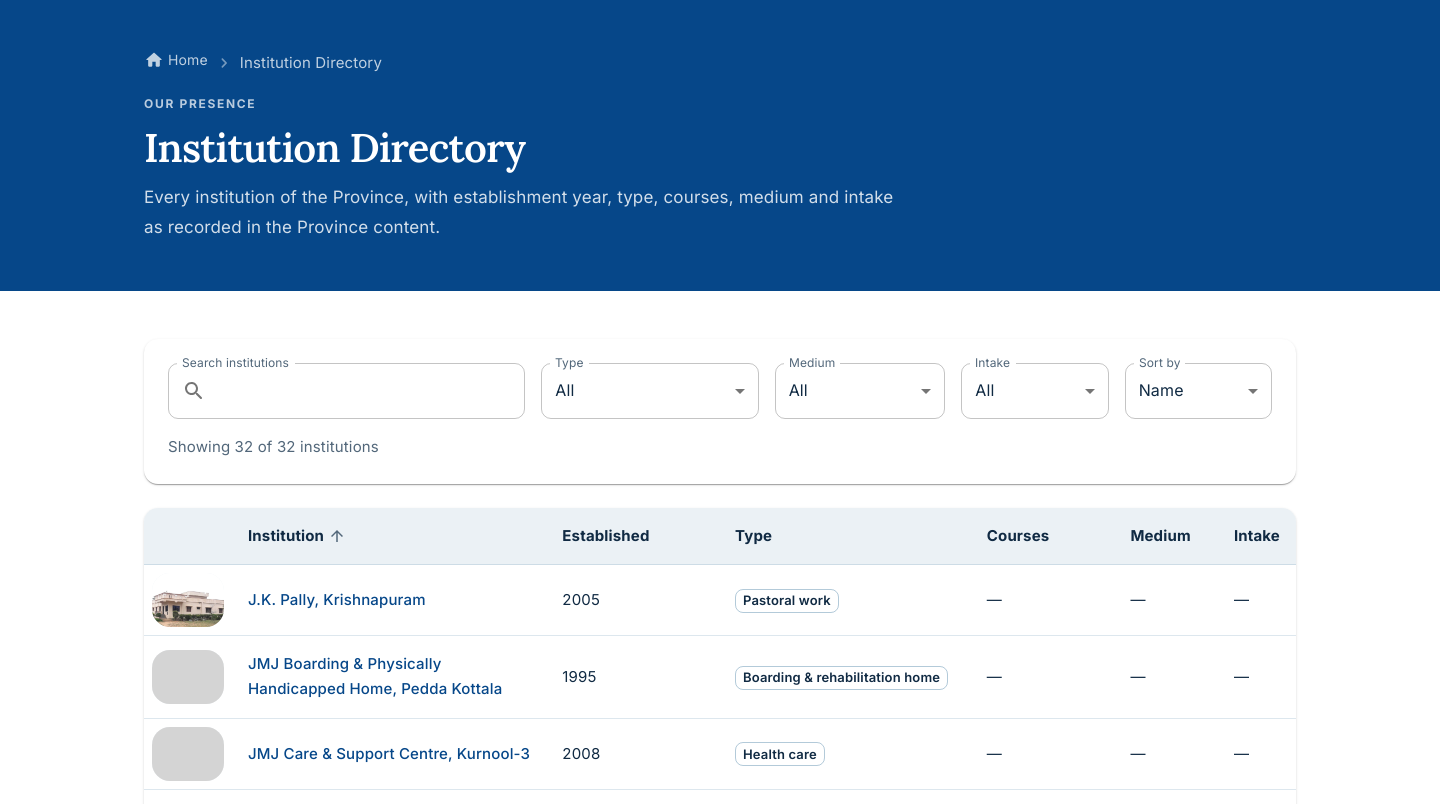
Scenario: InstitutionsPage › narrows the list as the visitor searches
In the field labelled "Search institutions": (370, 391) 214,363 -> 525,419, type "Kurnool"
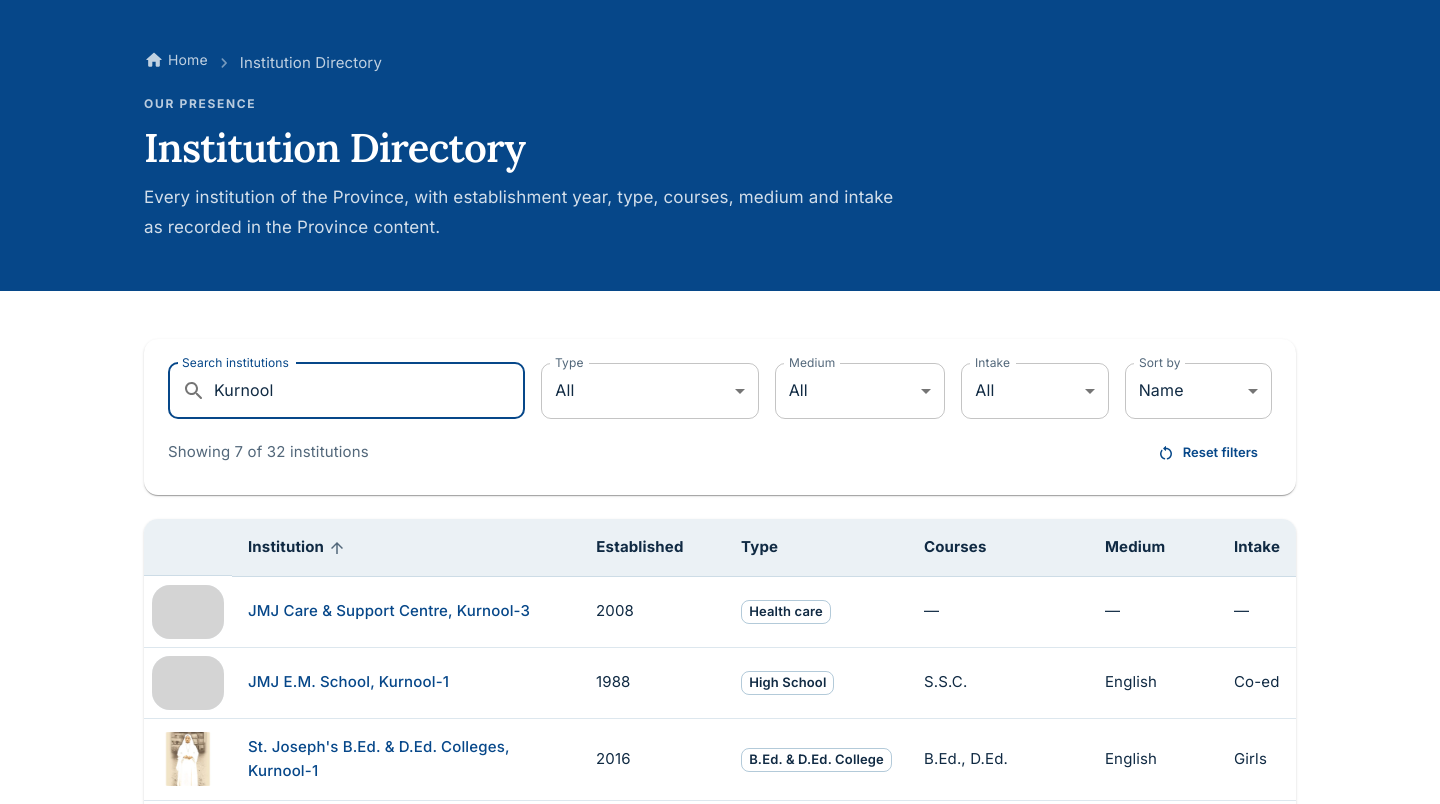
Now the message no longer shows "Showing 32 of 32", box 168,440 -> 369,465
